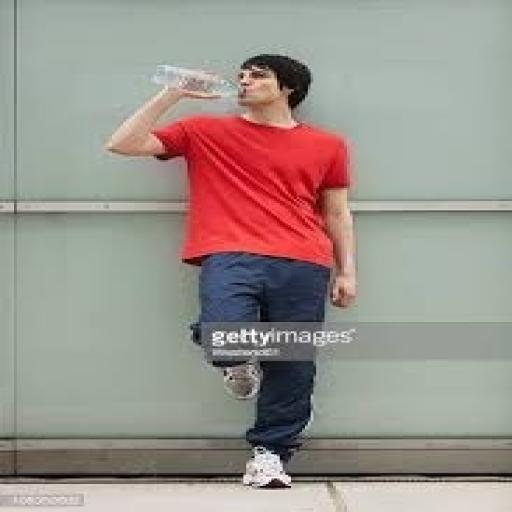drinking: (148, 63, 244, 99)
